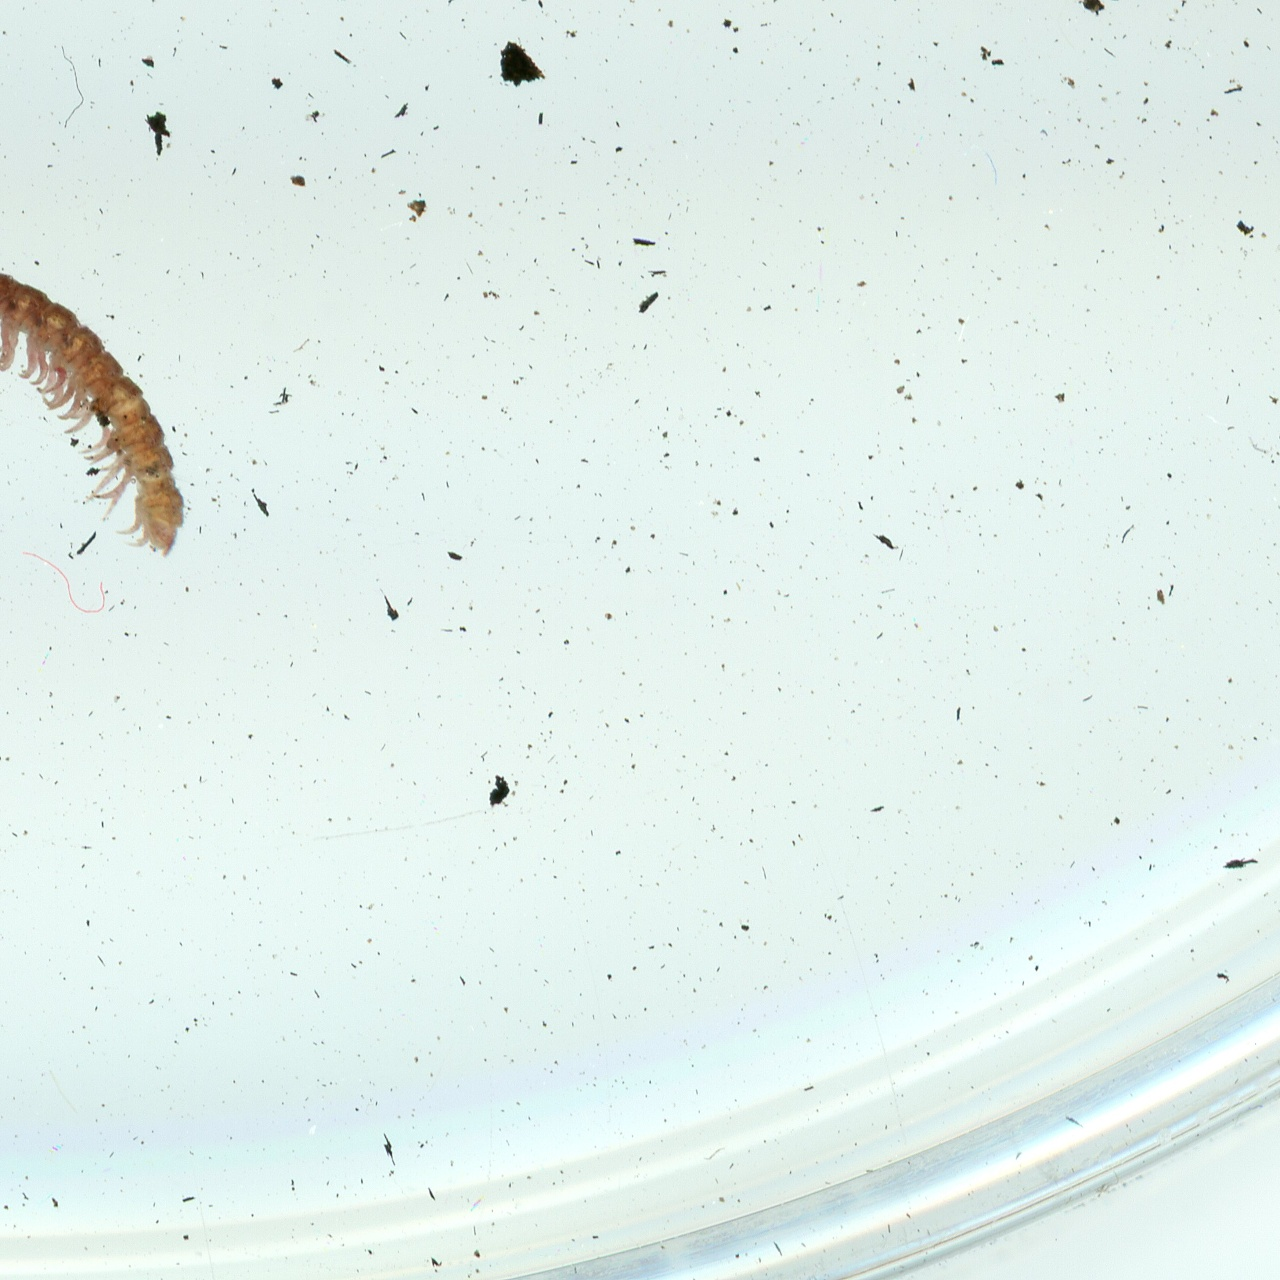arthropod: (0, 265, 188, 561)
